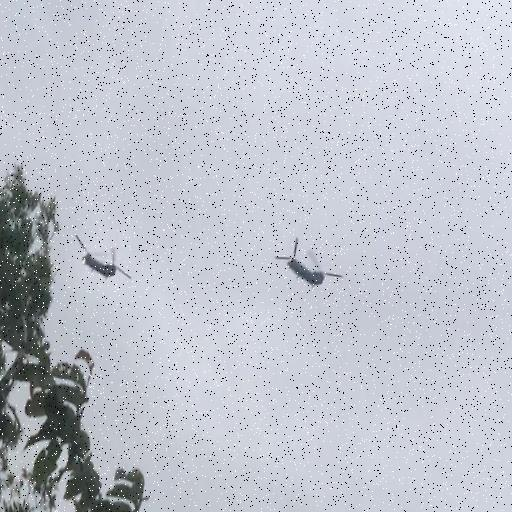helicopter: (276, 219, 344, 308), (68, 227, 135, 299)
